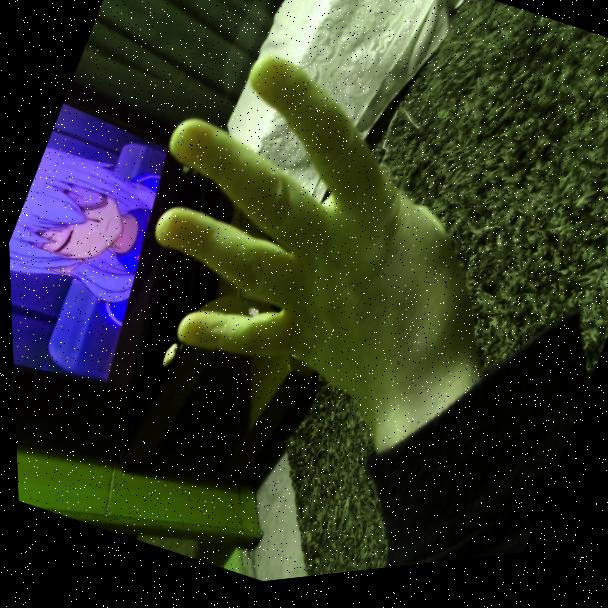four: (83, 9, 520, 458)
